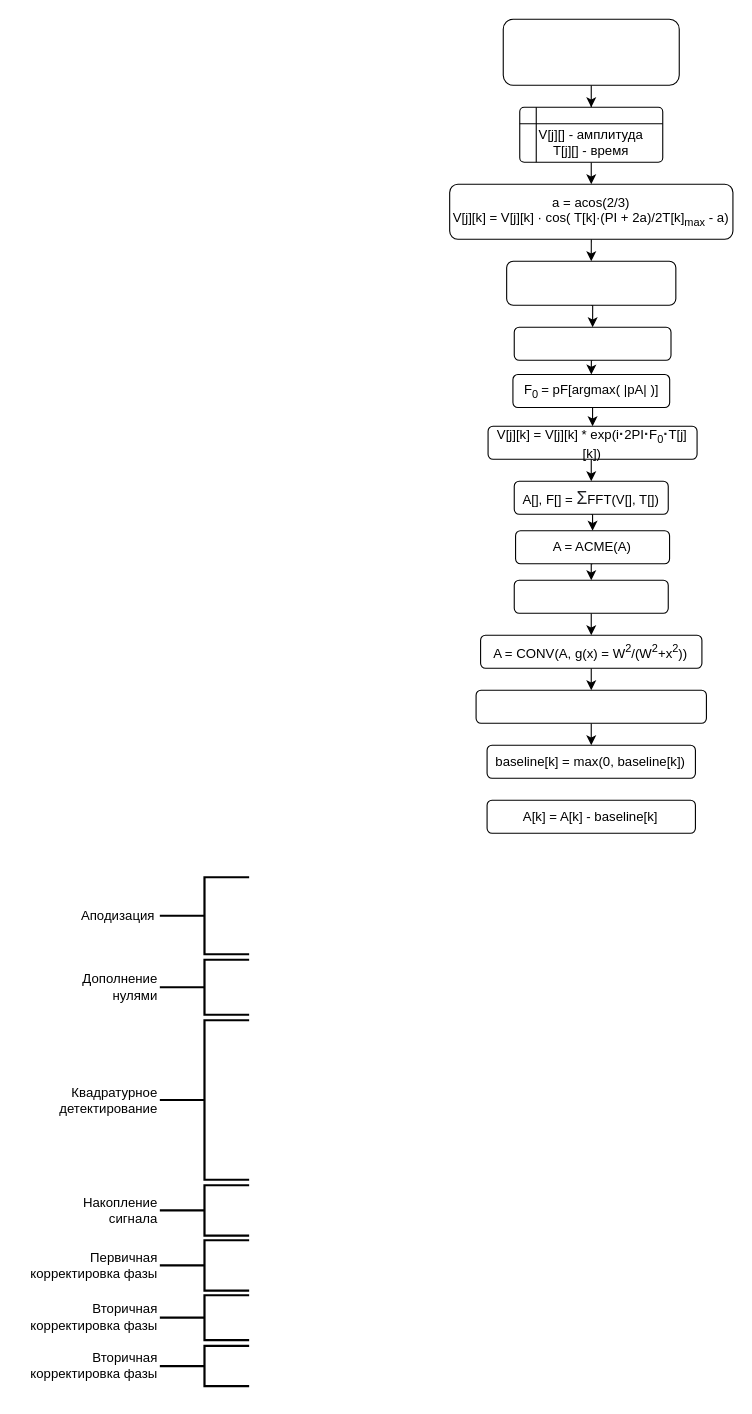
Image size: 752x1414. Some labels were removed from this diagram. The centre of each missing label's shape, as x and y in pixels:
A = ADE(A, F): (590,596)
baseline[] = LOWER_ENVELOPE(A): (590,706)
pA[], pF[] = FFT(V[j], T[j]): (592,343)
V[j] = V[j] + [0]·N expand T[j] = interp( T[j], size(V[j]) ): (591,282)
Входные данные: массив последовательно записанных сигналов: (590,51)
